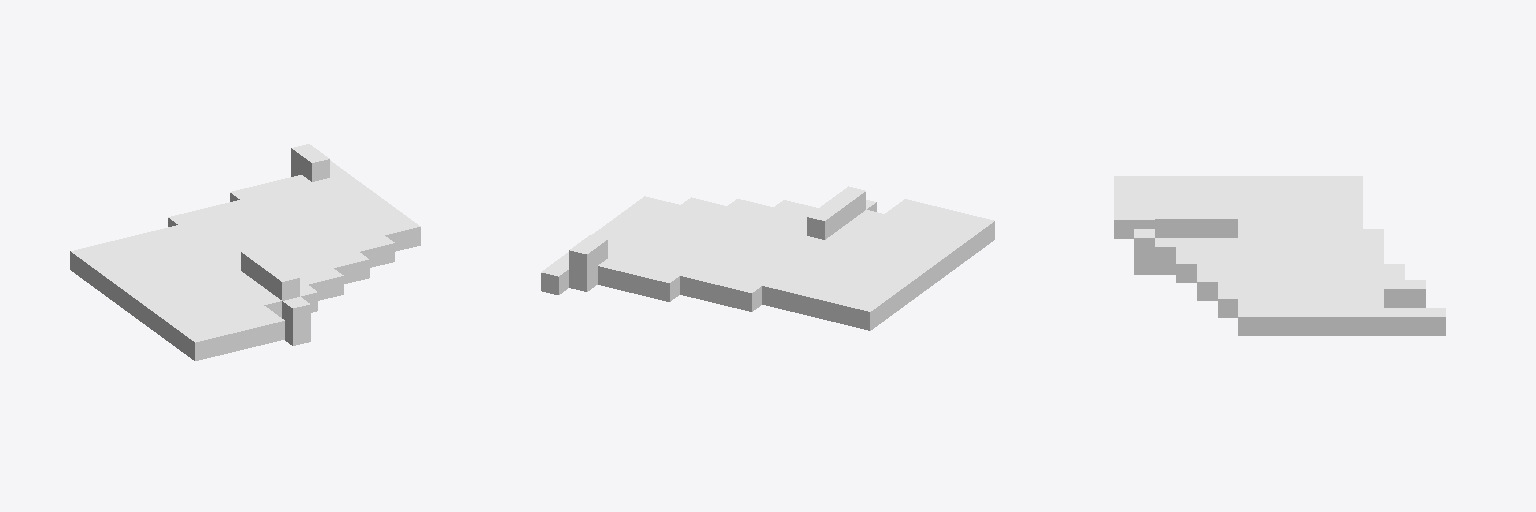
File: Extra-2-CamoJet_Wing_L.obj
The picture shows the model from 3 angles: view 1: azimuth 30°, elevation 25°; view 2: azimuth 150°, elevation 25°; view 3: azimuth 270°, elevation 25°; orthographic projection.
Visible parts, largest first — view 1: CamoJet_Wing_L; view 2: CamoJet_Wing_L; view 3: CamoJet_Wing_L.
Part boxes in pixels (left/top/right/bottom): CamoJet_Wing_L: left=70, top=144, right=420, bottom=360; CamoJet_Wing_L: left=541, top=186, right=994, bottom=330; CamoJet_Wing_L: left=1114, top=176, right=1445, bottom=335.
Bounding box in the file's own units: 1.6 × 0.3 × 1.6.